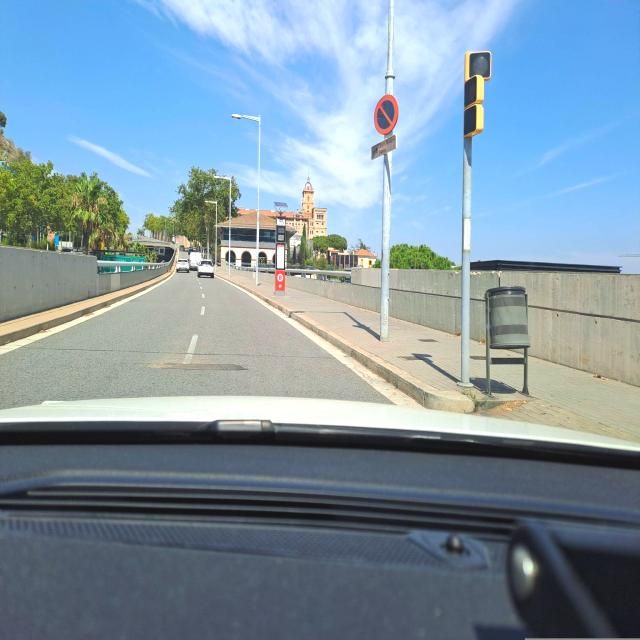car: (197, 258, 215, 278), (176, 257, 190, 273)
